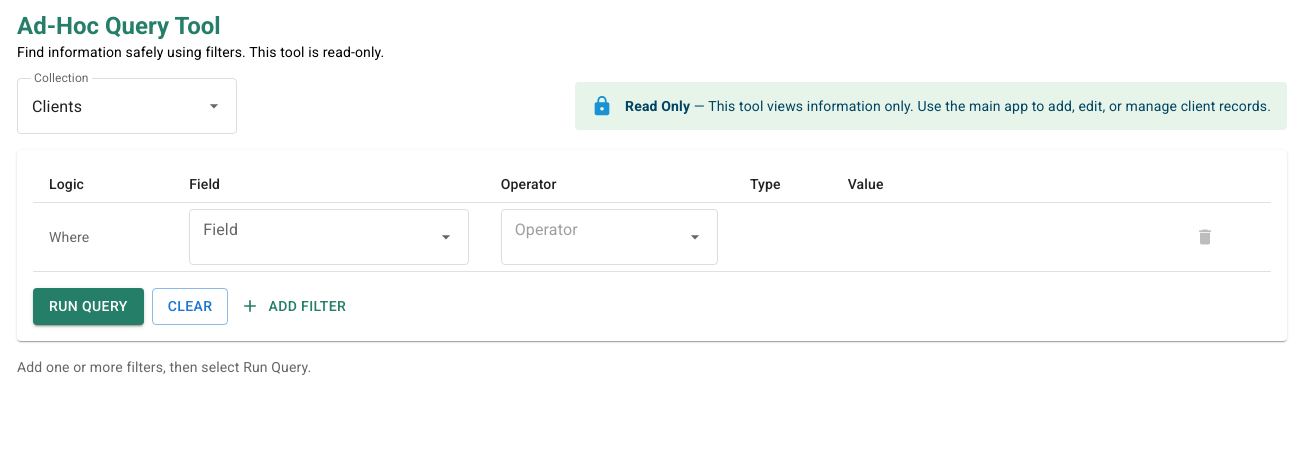
ClientQueryTool › Remove Filter removes a row
Click the button "Add Filter". click: (295, 306)
box: [236,288,354,324]
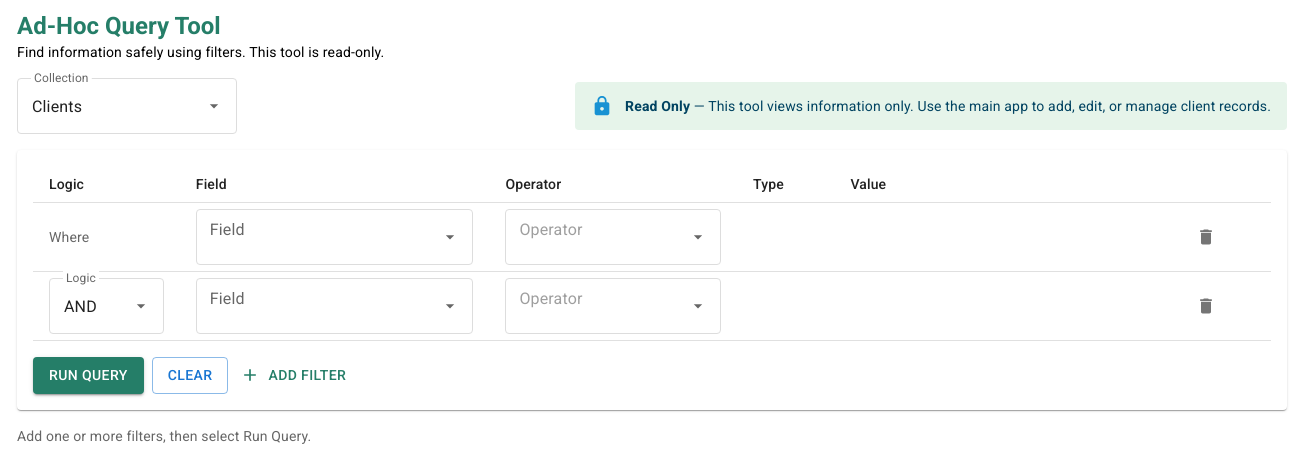
Click the button named "Remove filter" in the row of "Where". click: (1206, 237)
box: [1191,222,1221,252]
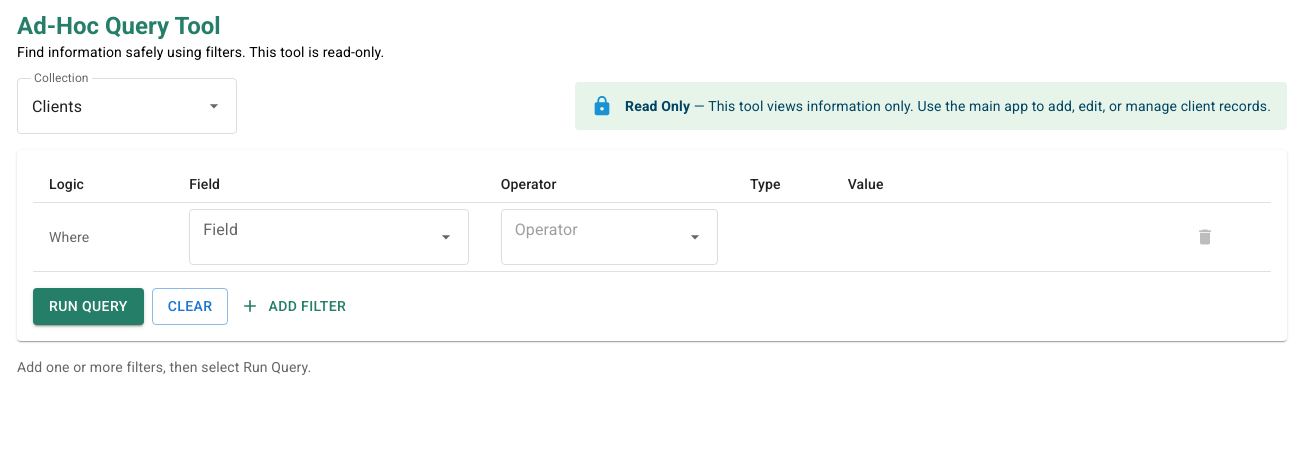
Expected: the number of buttons named "Remove filter" is 1, [1190,222,1220,252]
